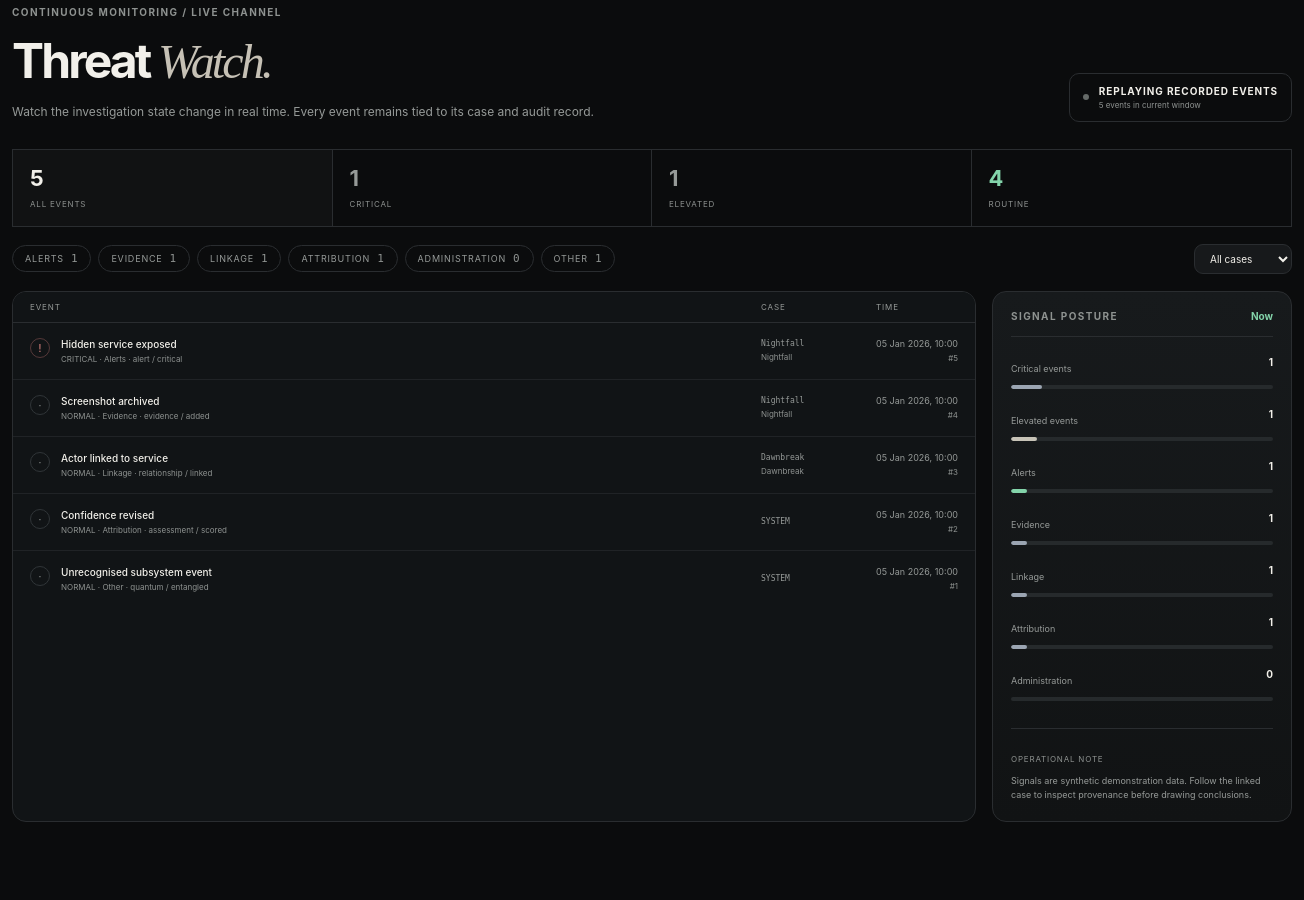
Test: ThreatWatchPage › files an action matching no known prefix under Other, not a named team
Expected: the text "Unrecognised subsystem event" is shown, [61,566,212,578]
Click the button "Other 1" at coordinates (578, 259), box [540,245,615,272]
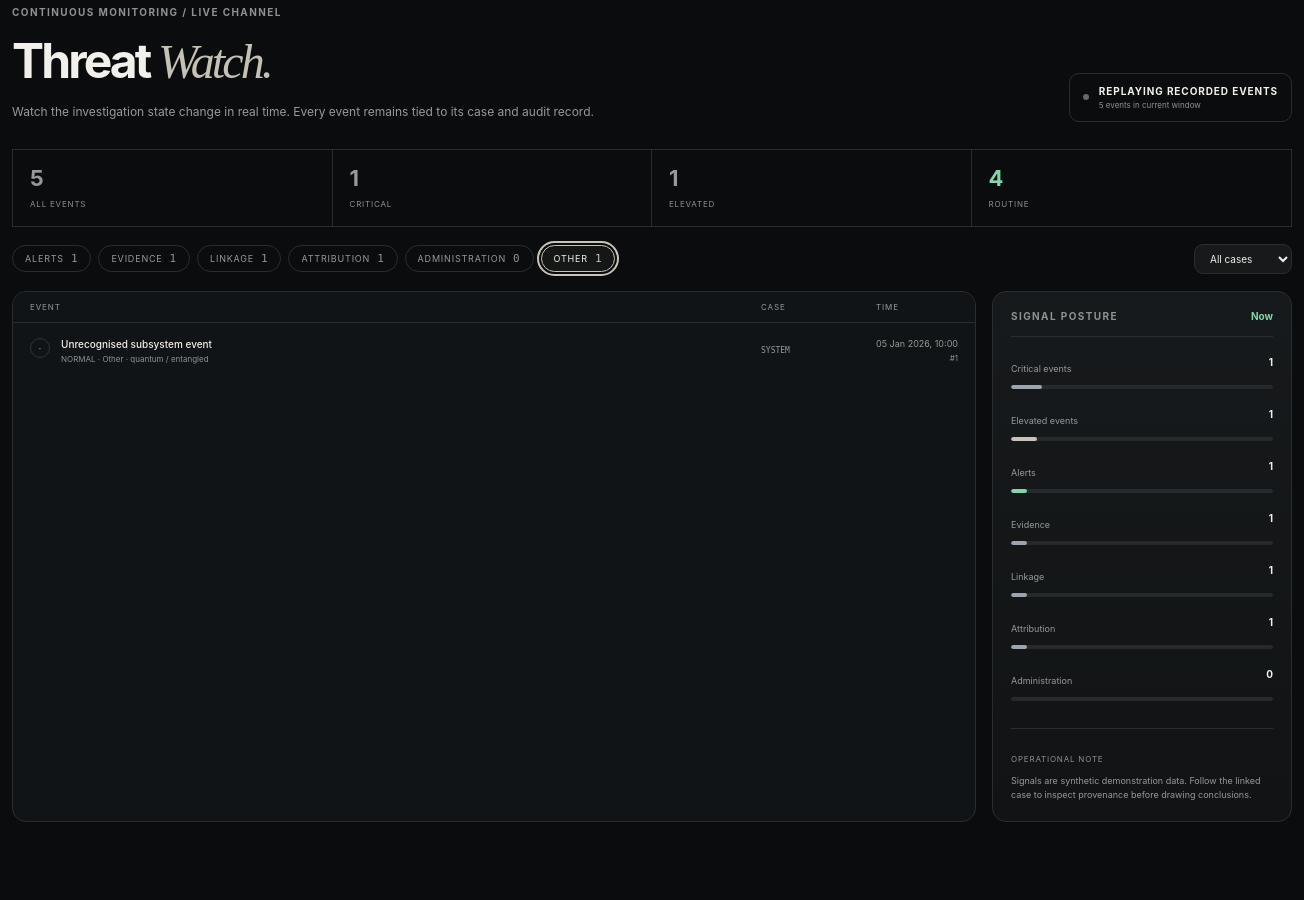
Expected: the text "Unrecognised subsystem event" is shown, [61,338,212,350]
Result: the button "Hidden service exposed" is gone
